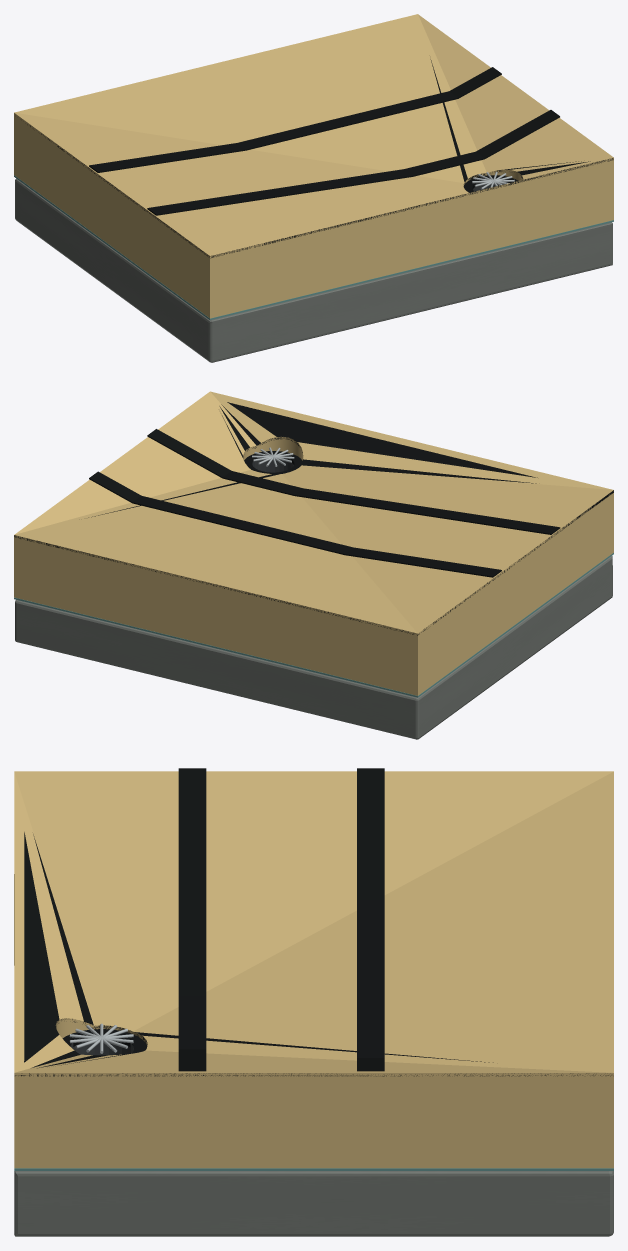
Rendered from modell.glb.
3 renders of one model, top to bottom at view 1: azimuth 30°, elevation 25°; view 2: azimuth 150°, elevation 25°; view 3: azimuth 270°, elevation 25°, orthographic. The views are drawn at different scales.
Visible parts, largest first — view 1: f02-gefaelle_daemmung, f02-untergrund_tragwerk, f02-naht_deckung, f02-abdichtung_deckung, f02-luftdichtheit_luftdichtheit; view 2: f02-gefaelle_daemmung, f02-untergrund_tragwerk, f02-naht_deckung, f02-abdichtung_deckung, f02-luftdichtheit_luftdichtheit; view 3: f02-gefaelle_daemmung, f02-untergrund_tragwerk, f02-naht_deckung, f02-abdichtung_deckung, f02-luftdichtheit_luftdichtheit, f02-ablauf_.002.
Boxes of the visible parts, x1,y1,x2,y2 form: f02-gefaelle_daemmung: (14, 14, 613, 318); f02-untergrund_tragwerk: (15, 178, 612, 362); f02-naht_deckung: (89, 67, 559, 215); f02-abdichtung_deckung: (27, 59, 613, 258); f02-luftdichtheit_luftdichtheit: (14, 175, 613, 320); f02-gefaelle_daemmung: (14, 391, 613, 695); f02-untergrund_tragwerk: (15, 556, 612, 739); f02-naht_deckung: (89, 429, 560, 577); f02-abdichtung_deckung: (14, 402, 613, 635); f02-luftdichtheit_luftdichtheit: (14, 553, 613, 697); f02-gefaelle_daemmung: (14, 771, 613, 1168); f02-untergrund_tragwerk: (14, 874, 613, 1236); f02-naht_deckung: (178, 768, 384, 1071); f02-abdichtung_deckung: (15, 832, 611, 1076); f02-luftdichtheit_luftdichtheit: (14, 1168, 613, 1170); f02-ablauf_.002: (69, 1023, 133, 1053).
Size of the model in its own units: 2.2 by 0.571 by 1.85.
Materials: 6 (1 with a texture image).
